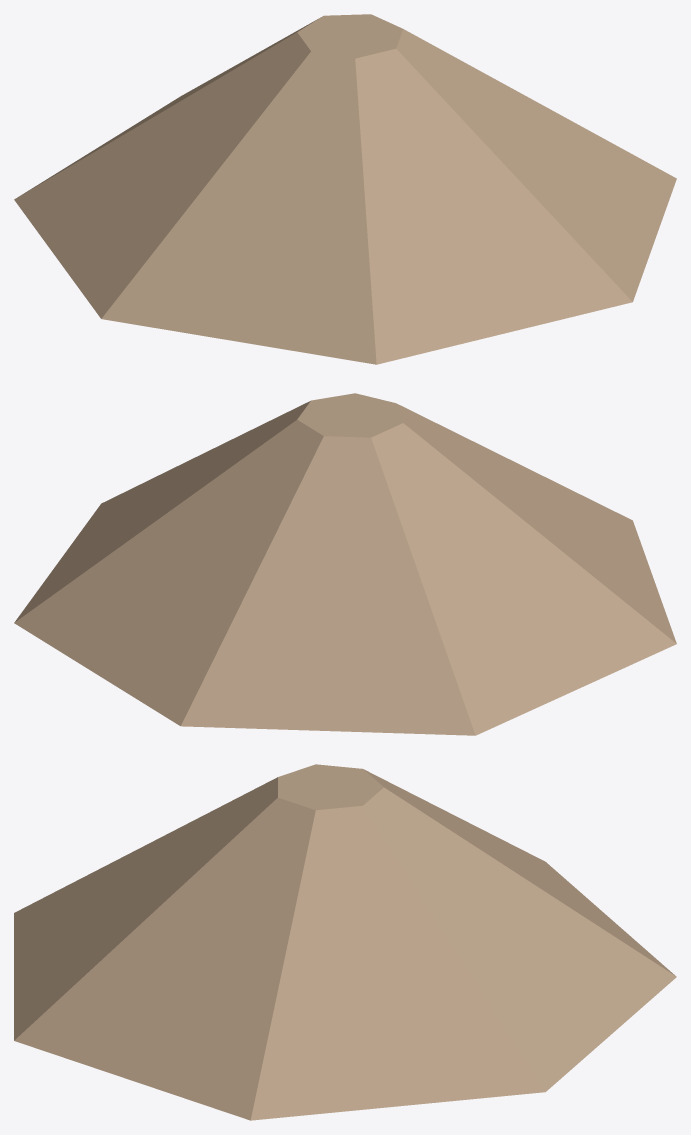
Rendered from prop_muck.glb.
3 renders of one model, top to bottom at view 1: azimuth 30°, elevation 25°; view 2: azimuth 150°, elevation 25°; view 3: azimuth 270°, elevation 25°, orthographic. The views are drawn at different scales.
Parts seen in each view (by area): view 1: prop_muck; view 2: prop_muck; view 3: prop_muck.
Boxes of the visible parts, box(x1,y1,x2,y2) form: prop_muck: box(14, 14, 676, 364); prop_muck: box(14, 393, 676, 735); prop_muck: box(14, 764, 676, 1120).
Bounding box in the file's own units: 0.1462 × 0.045 × 0.1426.
